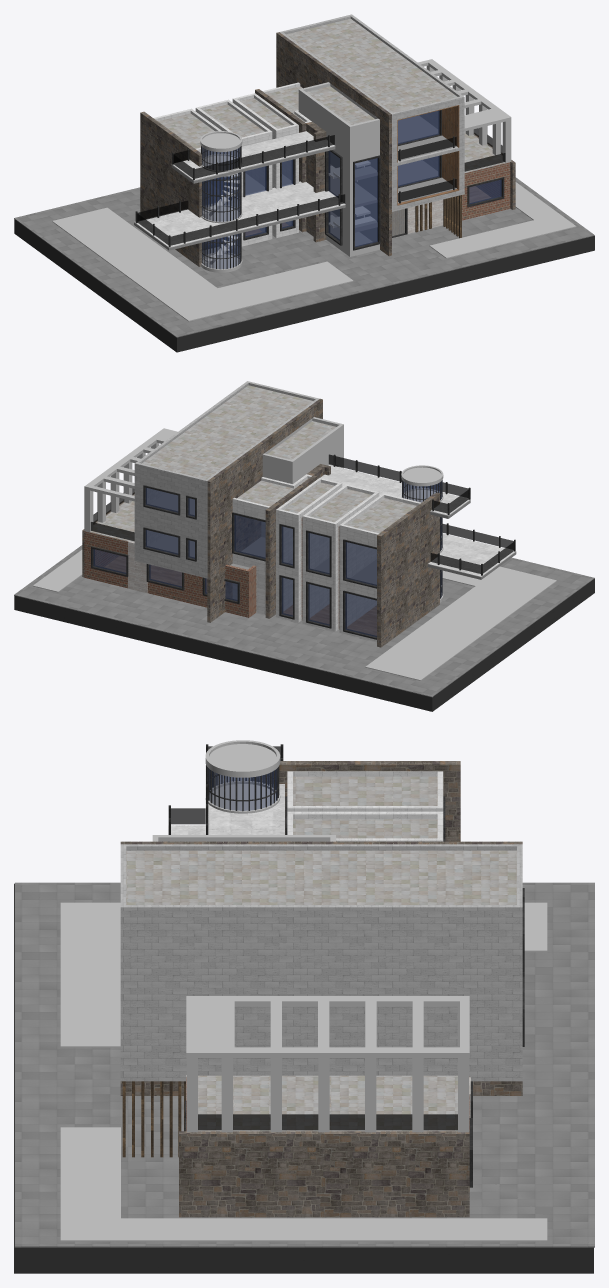
The picture shows the model from 3 angles, top to bottom: view 1: azimuth 30°, elevation 25°; view 2: azimuth 150°, elevation 25°; view 3: azimuth 270°, elevation 25°; orthographic projection. The views are drawn at different scales.
Visible parts, largest first — view 1: Box014_21 - Default_0, Line035_22 - Default_0, Box013_Material #22_0, Rectangle003_02 - Default_0, Line009_Solid Glass_0, Box053_03 - Default_0, Box056_Metal_0, Box062, Line002_Wall Paint_0, Line036_22 - Default_0, Cone002_13 - Brushed Metal #2_0, Shape001_15 - Glossy Plastic_0 (+37 smaller); view 2: Box014_21 - Default_0, Box013_Material #22_0, Line035_22 - Default_0, Box056_Metal_0, Line002_Wall Paint_0, Rectangle003_02 - Default_0, Box062, Line001_11 - Default_0, Line007_06 - Default_0, Line008_06 - Default_0, Line006_06 - Default_0, Line009_Solid Glass_0 (+31 smaller); view 3: Box014_21 - Default_0, Line002_Wall Paint_0, Box063, Rectangle003_02 - Default_0, Line036_22 - Default_0, Box013_Material #22_0, Rectangle024_02 - Default_0, Rectangle021_Solid Glass_0, Line035_22 - Default_0, Rectangle008_02 - Default_0, Line039, Box056_Metal_0 (+17 smaller).
Part boxes in pixels (x1,y1,x2,y2): Box014_21 - Default_0: (14, 177, 594, 337); Line035_22 - Default_0: (52, 207, 353, 321); Box013_Material #22_0: (14, 219, 594, 352); Rectangle003_02 - Default_0: (286, 18, 457, 112); Line009_Solid Glass_0: (298, 82, 379, 256); Box053_03 - Default_0: (134, 181, 345, 247); Box056_Metal_0: (140, 111, 201, 266); Box062: (276, 32, 391, 256); Line002_Wall Paint_0: (280, 14, 464, 211); Line036_22 - Default_0: (429, 182, 576, 258); Cone002_13 - Brushed Metal #2_0: (202, 147, 239, 268); Shape001_15 - Glossy Plastic_0: (201, 146, 241, 269); Box014_21 - Default_0: (14, 545, 594, 697); Box013_Material #22_0: (14, 578, 594, 711); Line035_22 - Default_0: (365, 566, 556, 680); Box056_Metal_0: (377, 492, 439, 647); Line002_Wall Paint_0: (134, 381, 319, 578); Rectangle003_02 - Default_0: (142, 385, 312, 479); Box062: (207, 398, 322, 622); Line001_11 - Default_0: (84, 531, 256, 617); Line007_06 - Default_0: (302, 484, 379, 631); Line008_06 - Default_0: (339, 493, 420, 641); Line006_06 - Default_0: (276, 478, 342, 622); Line009_Solid Glass_0: (262, 417, 343, 483); Box014_21 - Default_0: (15, 882, 594, 1247); Line002_Wall Paint_0: (120, 844, 522, 1081); Box063: (179, 1131, 469, 1217); Rectangle003_02 - Default_0: (126, 850, 516, 904); Line036_22 - Default_0: (60, 1127, 547, 1241); Box013_Material #22_0: (14, 883, 593, 1273); Rectangle024_02 - Default_0: (198, 1075, 457, 1131); Rectangle021_Solid Glass_0: (186, 996, 469, 1057); Line035_22 - Default_0: (60, 902, 547, 1047); Rectangle008_02 - Default_0: (293, 776, 437, 805); Line039: (198, 1114, 457, 1130); Box056_Metal_0: (251, 761, 460, 841).
Bounding box in the file's own units: 30.4 × 10.86 × 20.51.
